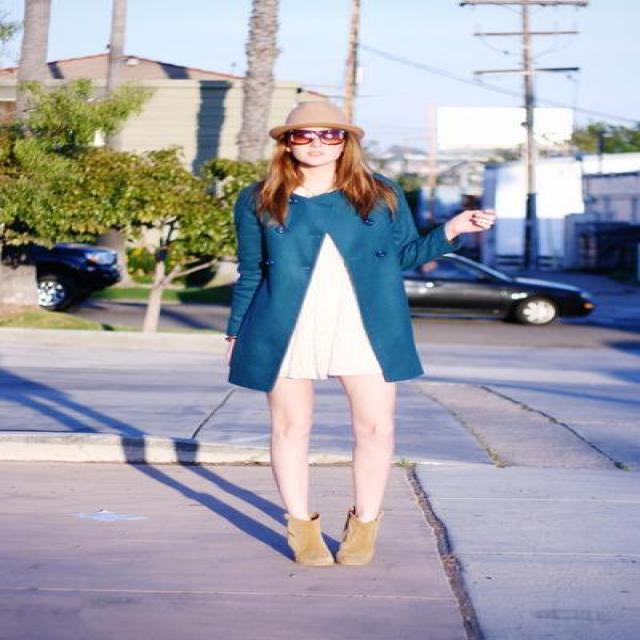dress: (278, 234, 376, 378)
hat: (270, 102, 360, 134)
jacket: (216, 192, 459, 393)
shoe: (288, 508, 381, 564)
sunglass: (315, 126, 363, 142)
